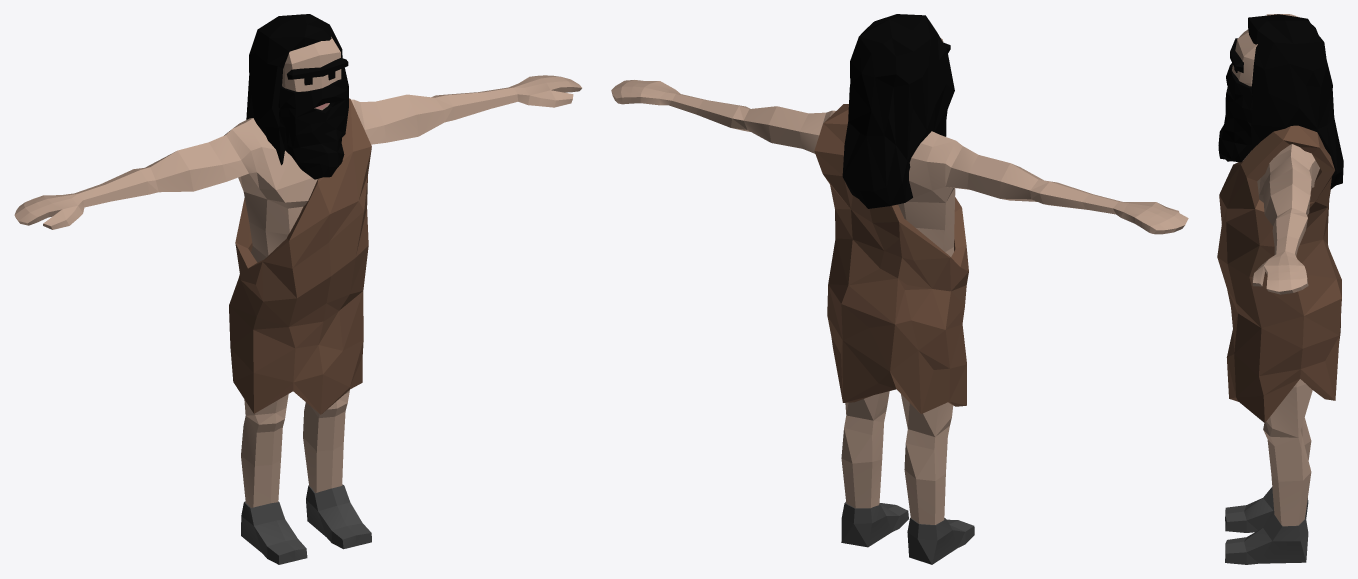
The model's file is Primat.fbx.
3 views of the same model, side by side, from view 1: azimuth 30°, elevation 25°; view 2: azimuth 150°, elevation 25°; view 3: azimuth 270°, elevation 25° (orthographic).
Parts seen in each view (by area): view 1: Primat; view 2: Primat; view 3: Primat.
Boxes of the visible parts, x1,y1,x2,y2 form: Primat: [14, 14, 581, 564]; Primat: [611, 14, 1188, 564]; Primat: [1217, 14, 1343, 564].
Size of the model in its own units: 196 by 173 by 37.86.
